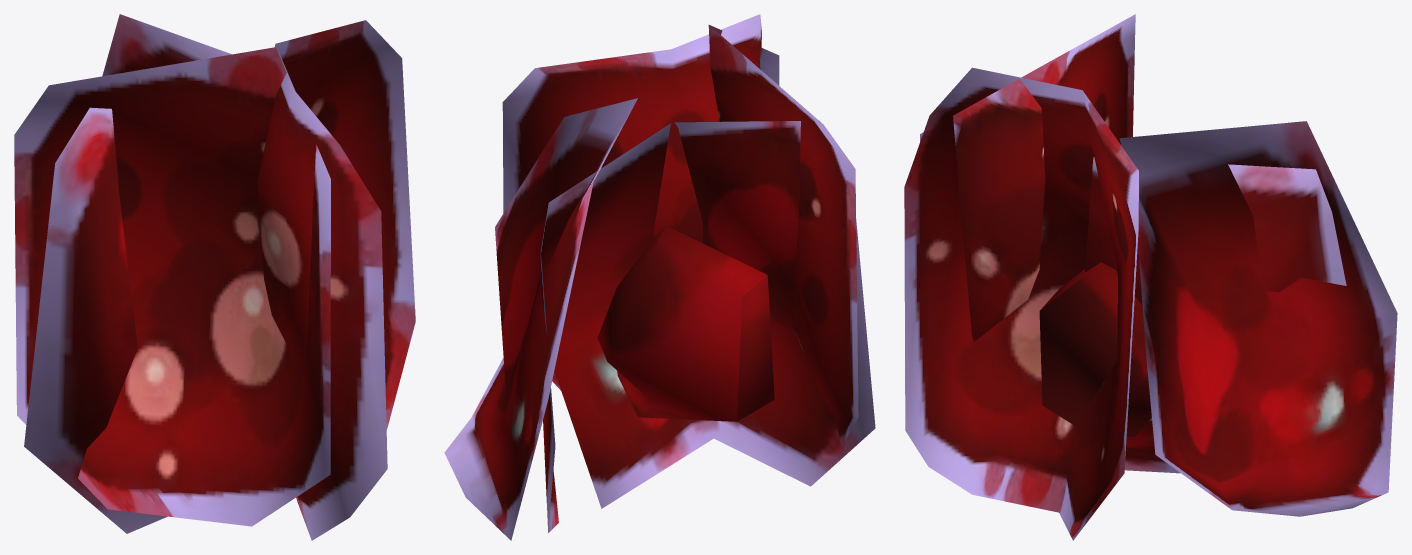
The model's file is Zombie_Broken_Clown_Head02_bfe638ec__Zombie_Broken_Purple_cee75a00_c1f257.obj.
3 renders of one model, left to right at view 1: azimuth 30°, elevation 25°; view 2: azimuth 150°, elevation 25°; view 3: azimuth 270°, elevation 25°, orthographic. The views are drawn at different scales.
Size of the model in its own units: 0.6582 by 0.7328 by 0.7546.
1 material, 1 textured.
